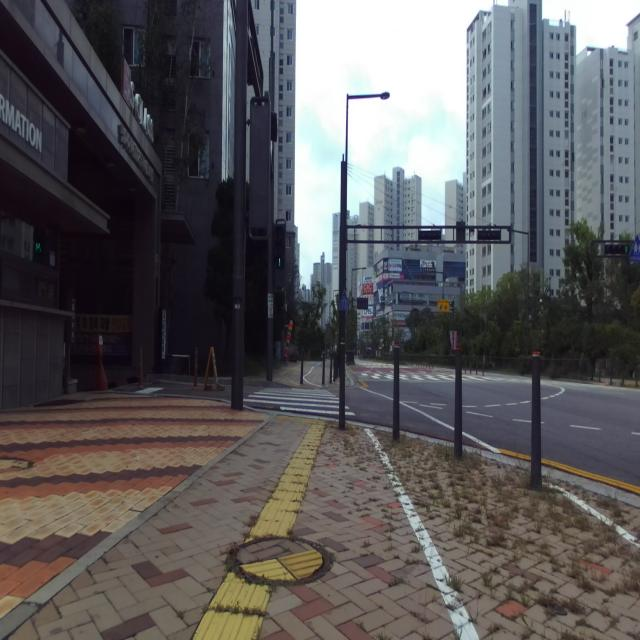횡단보도: (243, 390, 355, 416), (361, 366, 476, 384)
